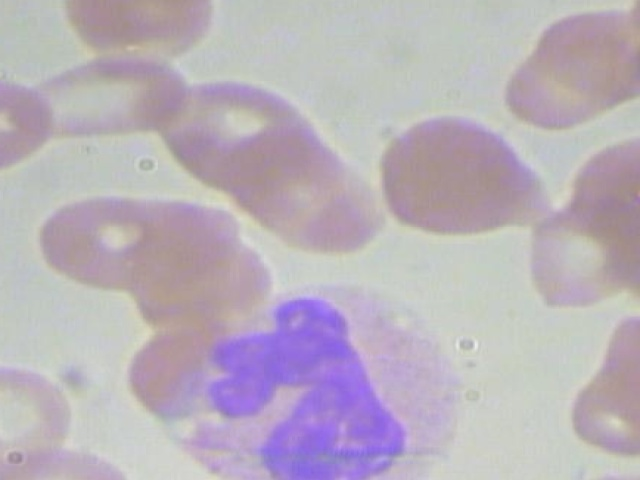RBC: (370, 111, 553, 239), (12, 48, 204, 143), (0, 70, 55, 177), (0, 442, 133, 480)
WBC: (140, 274, 480, 480)
